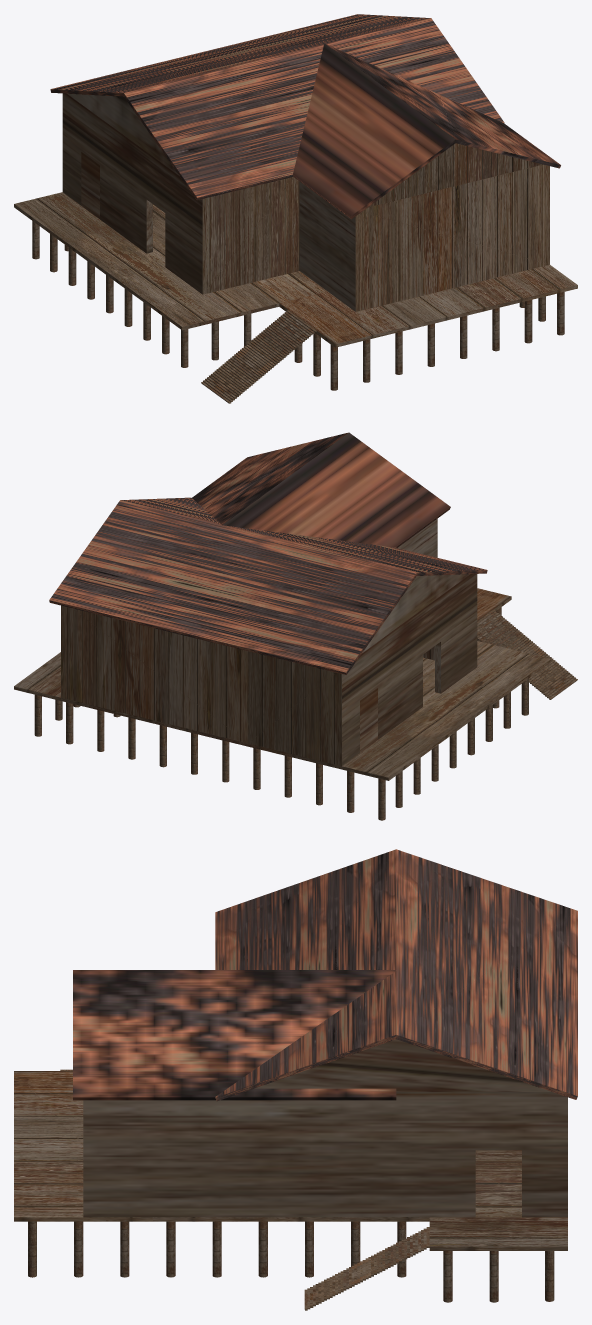
Rendered from Cabin.fbx.
3 views of the same model, one above another, from view 1: azimuth 30°, elevation 25°; view 2: azimuth 150°, elevation 25°; view 3: azimuth 270°, elevation 25° (orthographic). The views are drawn at different scales.
Parts seen in each view (by area): view 1: Peak, Roof, Floor, Roof2, Stairs2, Cylinder, Cylinder4, Cylinder7; view 2: Peak, Roof, Roof2, Floor, Cylinder2, Stairs2, Cylinder4; view 3: Peak, Roof, Roof2, Floor, Cylinder3, Stairs, Cylinder6.
Boxes of the visible parts, x1,y1,x2,y2 form: Peak: (62,93,549,311); Roof: (50,14,504,200); Floor: (14,192,577,347); Roof2: (292,44,560,219); Stairs2: (201,310,316,403); Cylinder: (330,292,564,390); Cylinder4: (50,234,188,367); Cylinder7: (211,313,251,360); Peak: (61,519,477,766); Roof: (49,497,487,674); Roof2: (192,432,450,547); Floor: (14,588,550,780); Cylinder2: (34,694,385,820); Stairs2: (477,609,577,699); Cylinder4: (395,678,528,807); Peak: (83,1039,567,1217); Roof: (215,849,577,1101); Roof2: (73,970,396,1100); Floor: (14,1071,567,1250); Cylinder3: (74,1221,406,1277); Stairs: (304,1227,429,1310); Cylinder6: (443,1251,498,1302).
Bounding box in the file's own units: 6000 × 3013 × 6107.
